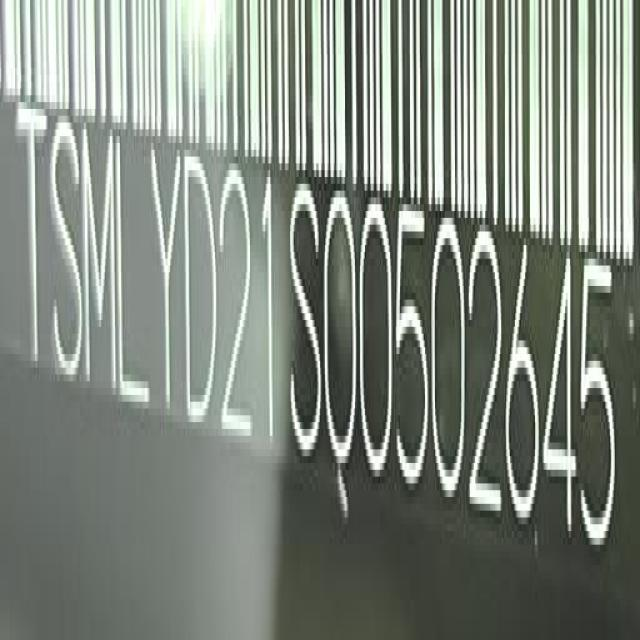0: (322, 202, 359, 476), (432, 215, 466, 504), (358, 198, 392, 481)
1: (260, 173, 282, 456)
2: (218, 160, 256, 447), (470, 228, 502, 515)
4: (542, 247, 576, 546)
5: (581, 260, 619, 554), (394, 199, 428, 496)
6: (506, 238, 542, 535)
D: (186, 149, 219, 433)
L: (115, 134, 148, 408)
M: (84, 121, 118, 398)
S: (290, 179, 324, 464), (49, 103, 82, 396)
T: (13, 94, 46, 378)
Y: (152, 141, 186, 424)
